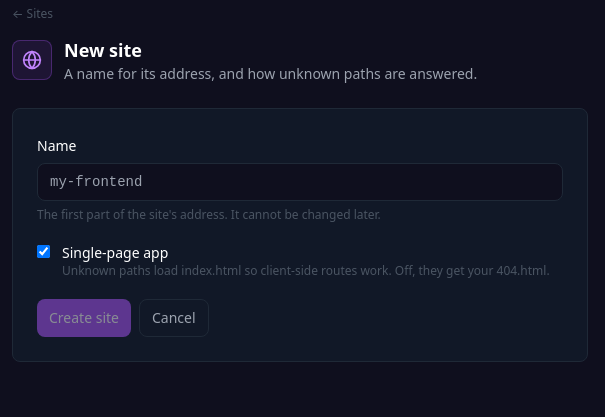
SiteFormPage › refuses a name the server would refuse, before sending it
Type "My_Site" into the field with test id "site-name".
click(300, 182); type("My_Site")  # box [37,163,563,201]
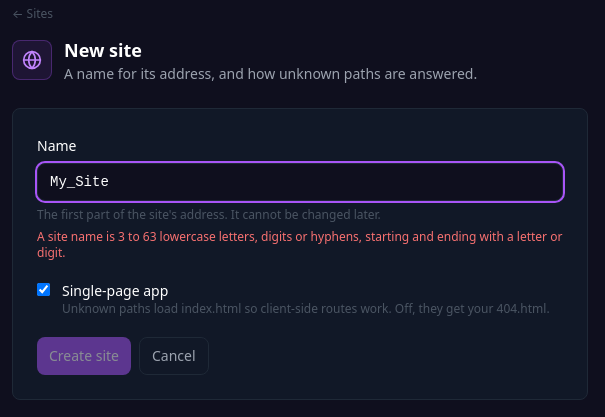
Expected: the button with test id "site-create" is disabled, [37,337,131,375]
Expected: the text with test id "site-name-error" shows "lowercase letters, digits or hyphens", [37,228,562,261]
Replace the text in the field with test id "site-name" with "studio" at (300, 182), box [37,163,563,201]
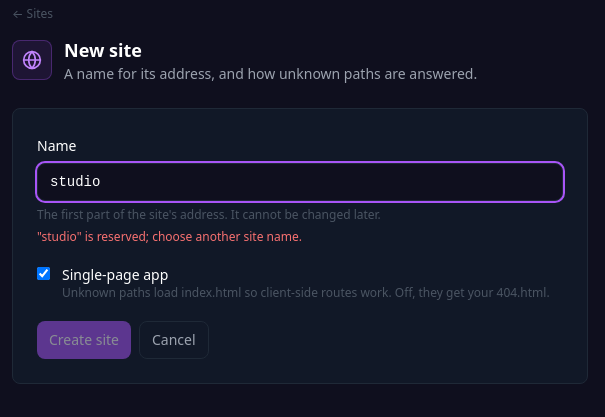
Expected: the text with test id "site-name-error" shows "reserved", [37,228,302,245]
